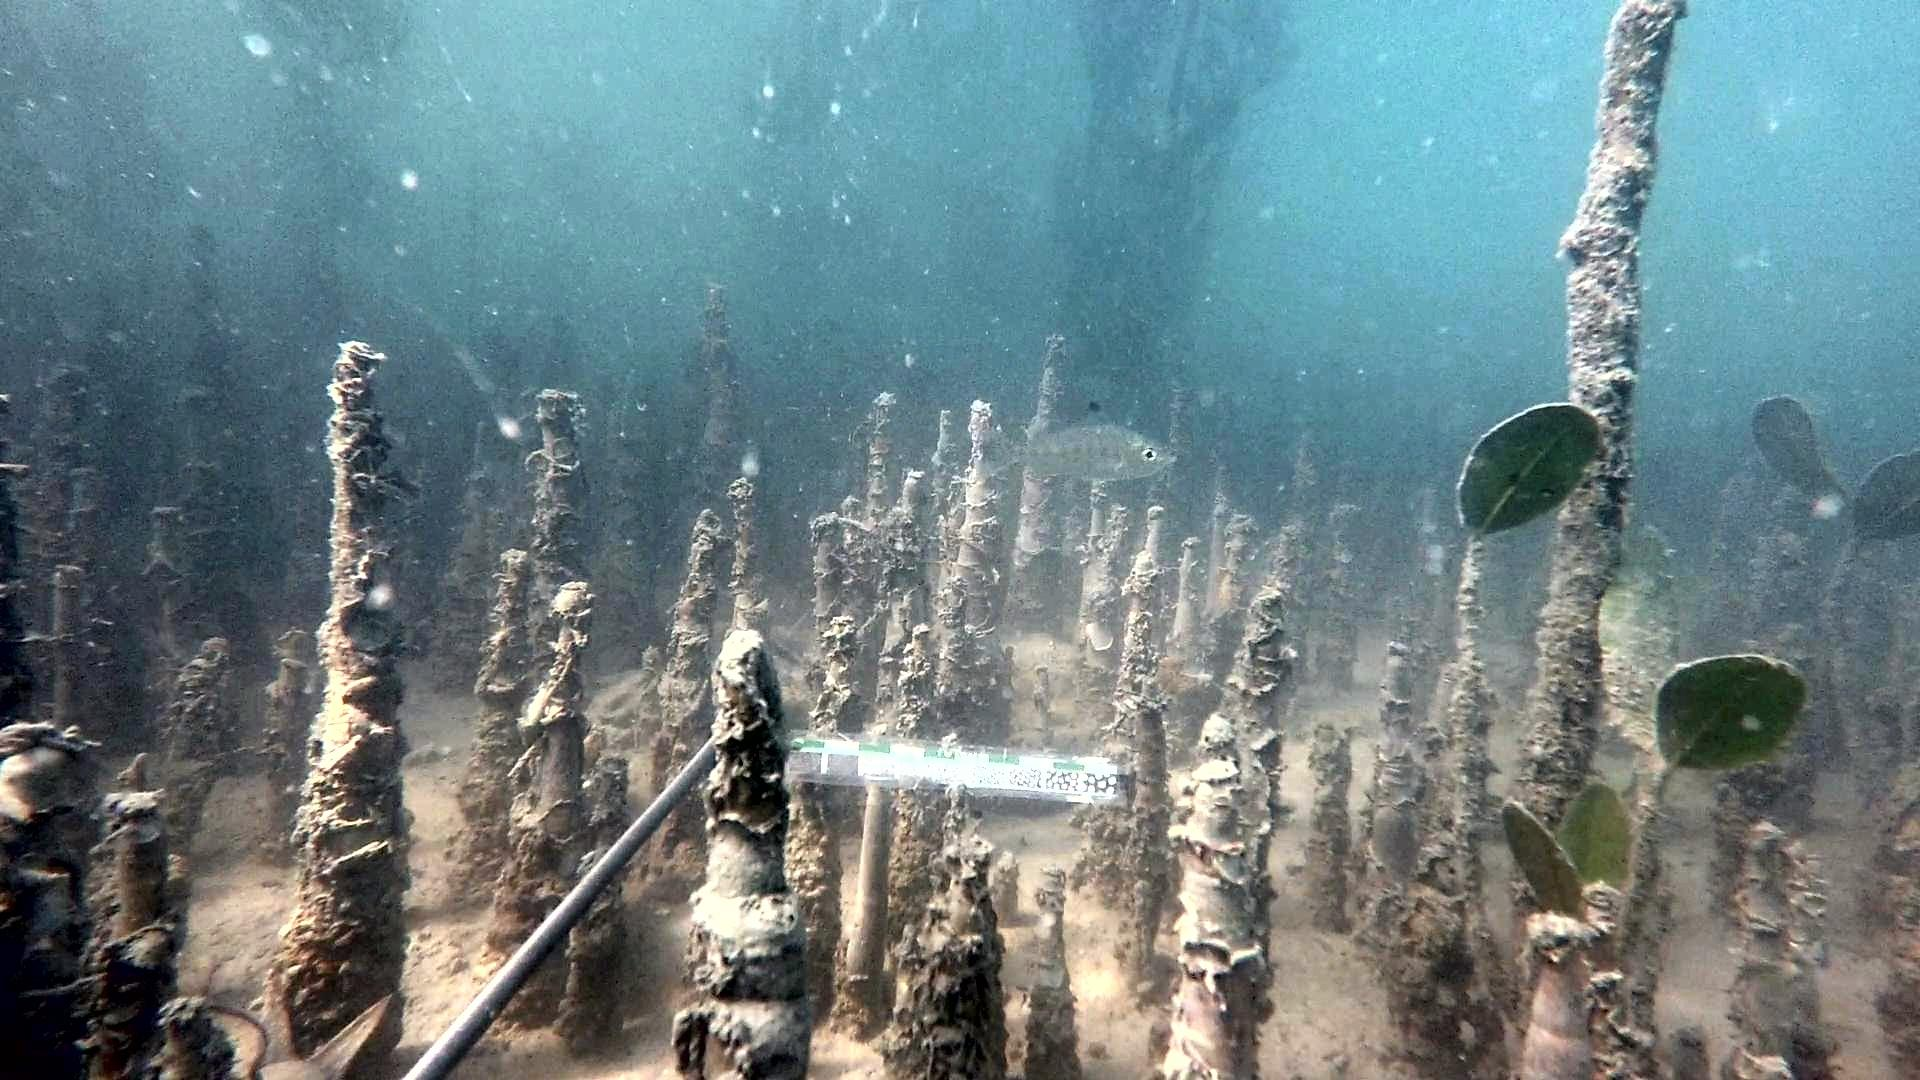gerres: (969, 401, 1179, 489)
